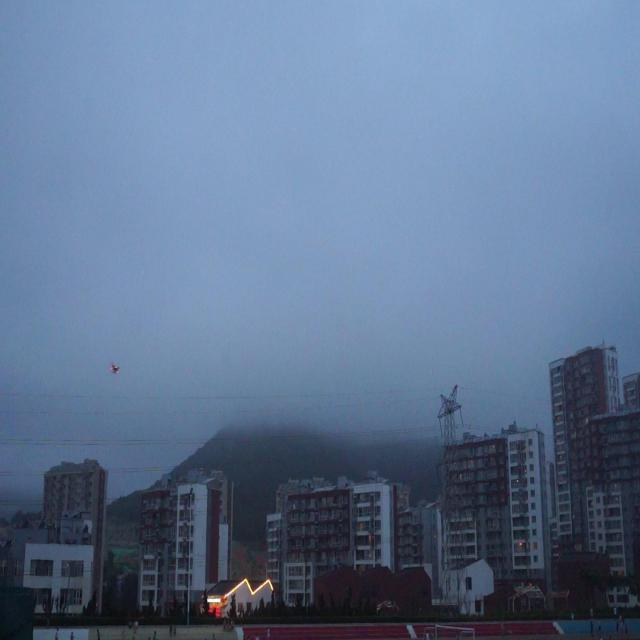UAV: (109, 363, 120, 374)
